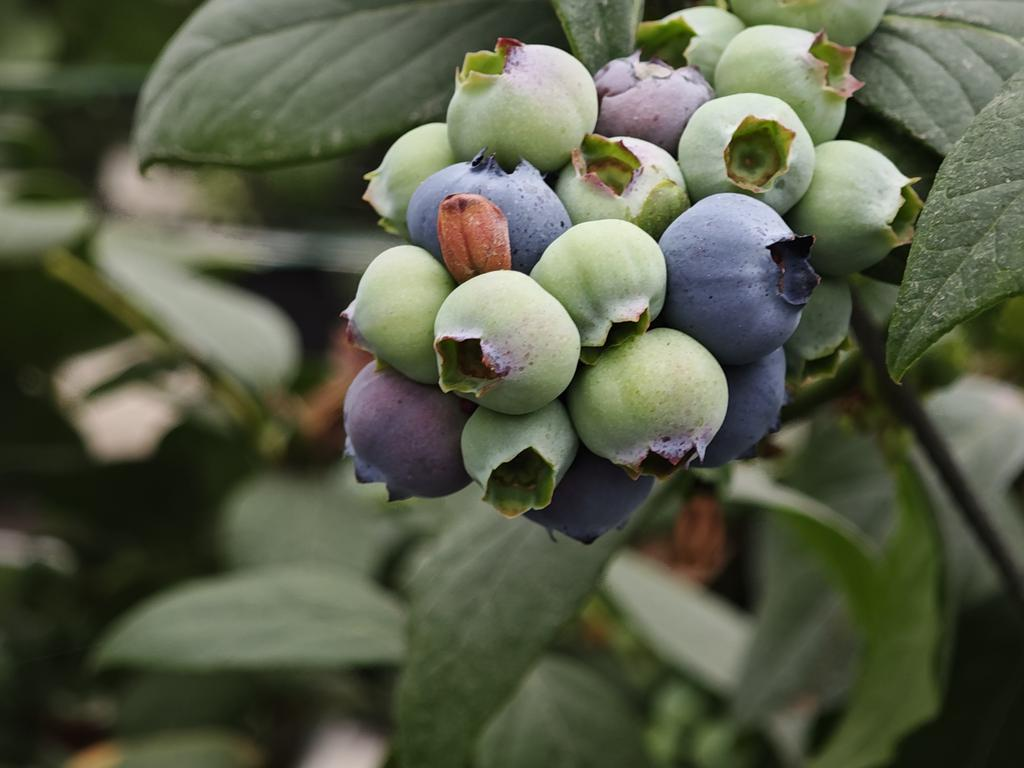RipeBlueBerry: (659, 190, 813, 365), (408, 154, 571, 264)
Semi-RipeBlueBerry: (342, 362, 478, 500)
UnripeBlueBerry: (573, 328, 731, 477), (432, 269, 585, 418), (445, 35, 602, 167)
